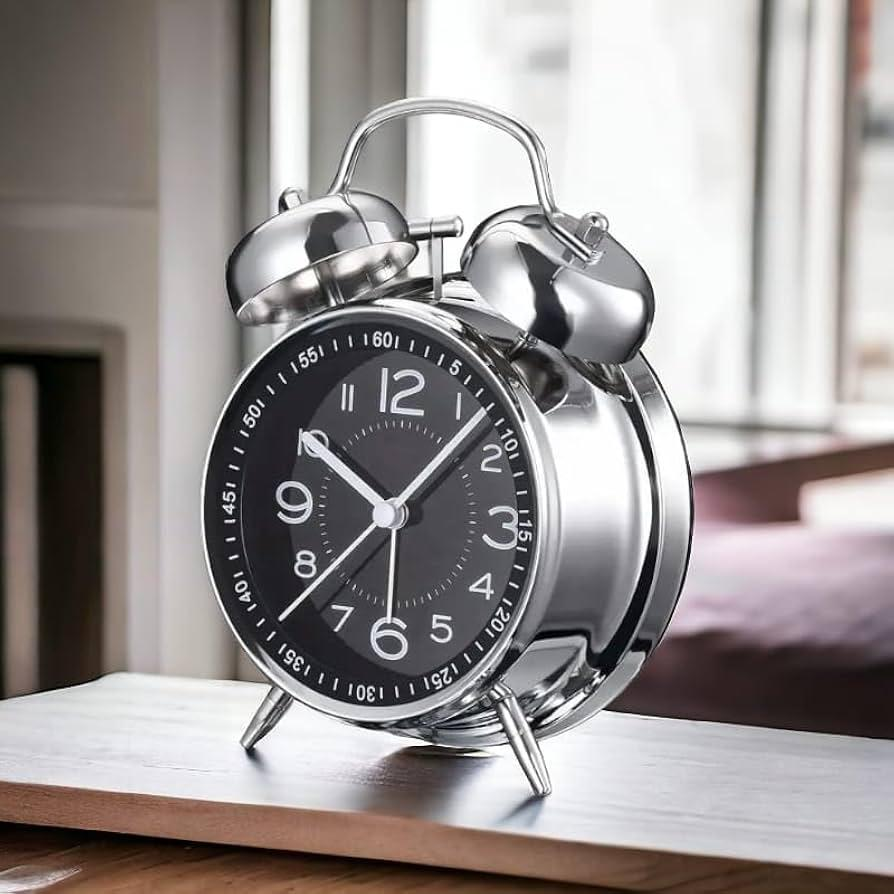clock: (191, 94, 699, 794)
